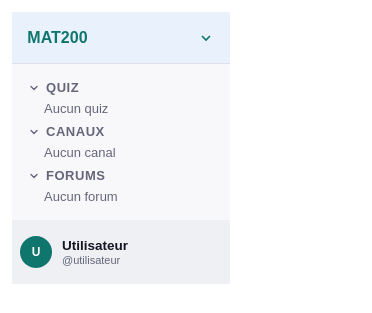
Test: CourseMenu › sélecteur de cours › ouvre la liste déroulante avec tous les cours et marque le cours sélectionné
The width and height of the screenshot is (372, 313).
What coordinates should you click on to do the following:
click the button "MAT200"
I would click on:
 (121, 38)
Its box is [12,12,230,63].
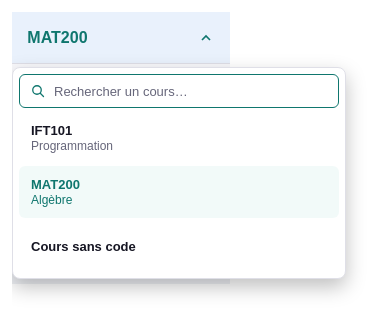
Result: the button "MAT200" is expanded at [12,12,230,63]
Result: the options read "IFT101Programmation", "MAT200Algèbre", "Cours sans code", in this order at [19,112,339,164]; [19,166,339,218]; [19,220,339,272]
